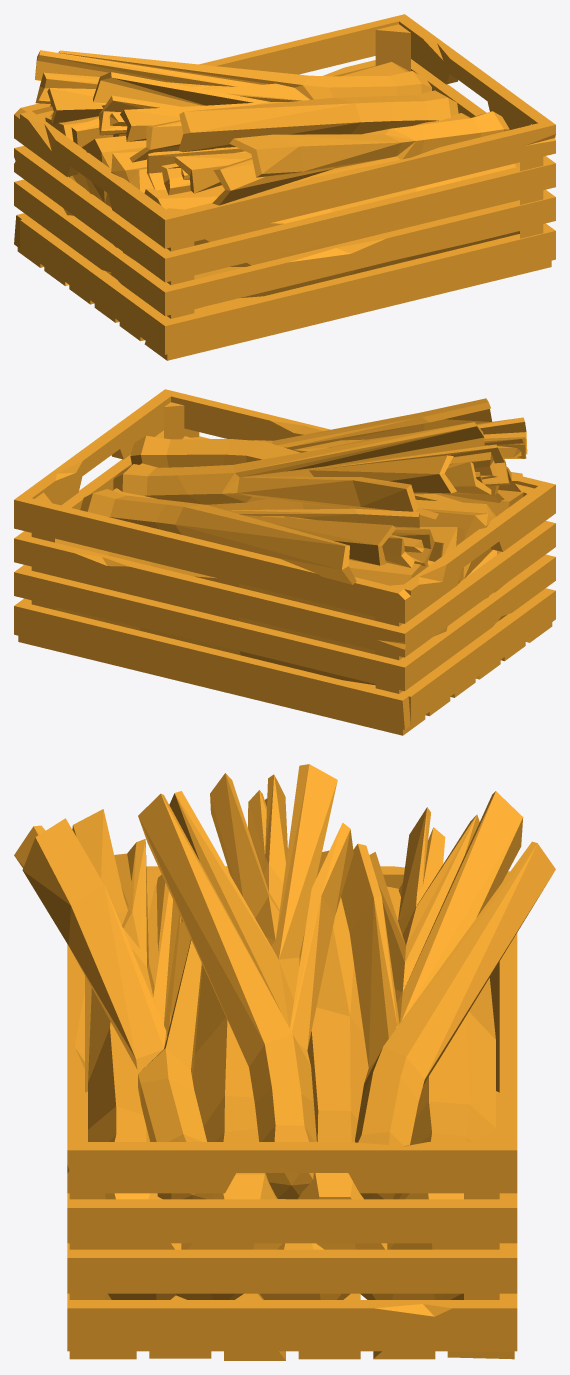
Rendered from SM_Crate_Wood_Medium_Leek_A.fbx.
3 views of the same model, one above another, from view 1: azimuth 30°, elevation 25°; view 2: azimuth 150°, elevation 25°; view 3: azimuth 270°, elevation 25° (orthographic). The views are drawn at different scales.
Visible parts, largest first — view 1: crate-wood-medium-leek-a; view 2: crate-wood-medium-leek-a; view 3: crate-wood-medium-leek-a.
Part boxes in pixels (<box>): crate-wood-medium-leek-a: <box>14,14,555,360</box>; crate-wood-medium-leek-a: <box>14,389,555,735</box>; crate-wood-medium-leek-a: <box>14,764,555,1360</box>.
Bounding box in the file's own units: 0.6073 × 0.3322 × 0.4892.
